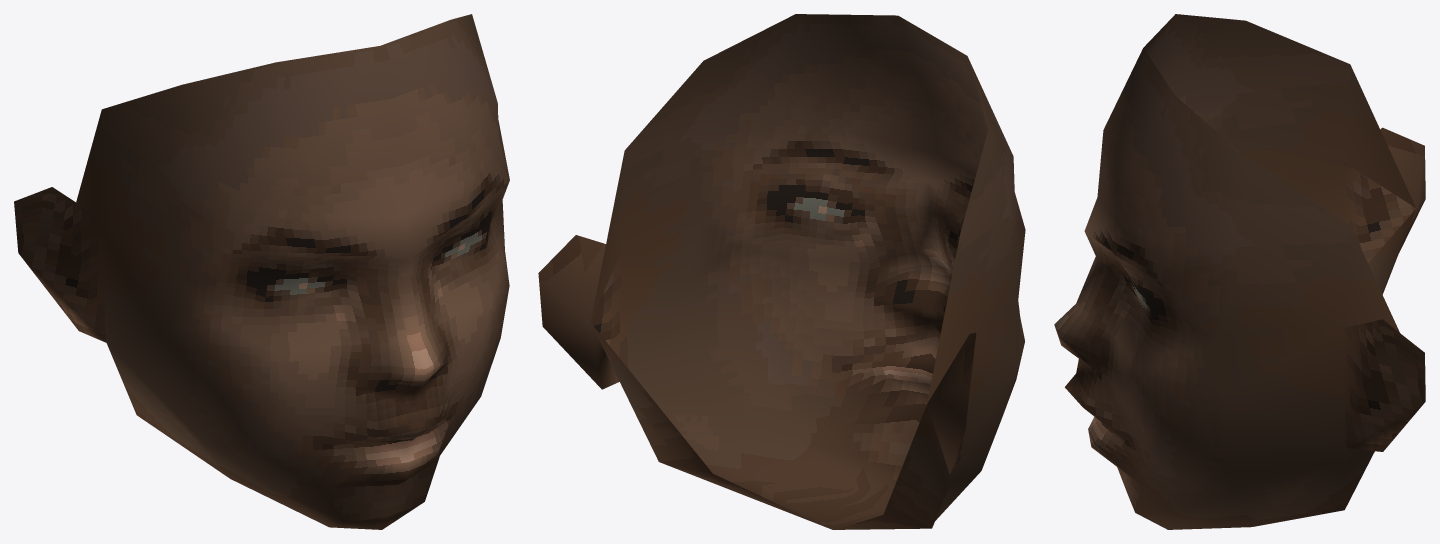
File: f_hair014.glb
3 views of the same model, side by side, from view 1: azimuth 30°, elevation 25°; view 2: azimuth 150°, elevation 25°; view 3: azimuth 270°, elevation 25° (orthographic). The views are drawn at different scales.
Size of the model in its own units: 19.4 by 20.74 by 14.72.
Materials: 1 (1 with a texture image).
